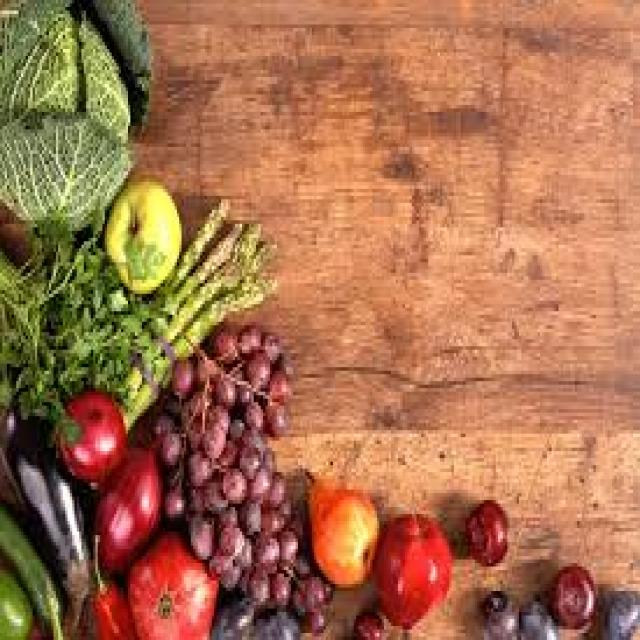organic waste: (0, 196, 175, 388), (0, 0, 147, 224), (116, 234, 275, 413), (128, 217, 263, 413), (119, 217, 242, 413), (119, 196, 230, 406), (118, 272, 274, 420), (0, 395, 91, 637), (125, 524, 218, 636), (86, 441, 163, 574), (102, 172, 184, 290), (374, 511, 452, 626), (303, 465, 377, 581), (0, 496, 61, 636), (54, 388, 124, 486), (86, 528, 130, 637), (463, 497, 507, 563), (547, 563, 591, 623), (0, 563, 33, 637), (600, 584, 638, 637), (179, 392, 214, 448), (210, 591, 252, 637), (479, 588, 516, 636), (158, 465, 186, 525), (519, 598, 556, 637), (252, 605, 296, 637), (184, 510, 212, 560), (151, 395, 184, 434), (298, 567, 326, 612), (200, 465, 228, 507), (242, 346, 272, 385), (244, 563, 268, 609), (263, 392, 289, 434), (181, 444, 212, 479), (170, 349, 195, 392), (275, 521, 298, 567), (189, 339, 214, 381), (212, 504, 235, 549), (251, 528, 277, 567), (156, 430, 184, 465), (235, 493, 258, 535), (212, 322, 237, 360), (217, 462, 244, 496), (352, 605, 379, 637), (246, 465, 268, 504), (268, 566, 288, 608), (198, 416, 221, 451), (242, 395, 263, 430), (256, 504, 282, 532), (265, 469, 284, 507), (214, 434, 237, 465), (238, 444, 258, 479), (218, 553, 240, 584), (214, 374, 235, 406), (265, 367, 289, 395), (237, 423, 263, 448), (288, 581, 305, 619), (184, 472, 200, 511), (274, 346, 296, 374), (233, 322, 258, 346), (233, 532, 251, 563), (261, 329, 279, 360), (258, 444, 275, 476), (207, 542, 226, 570), (307, 605, 326, 630), (223, 413, 240, 437), (277, 497, 291, 521), (233, 381, 249, 399), (288, 504, 298, 532), (321, 574, 331, 594)
